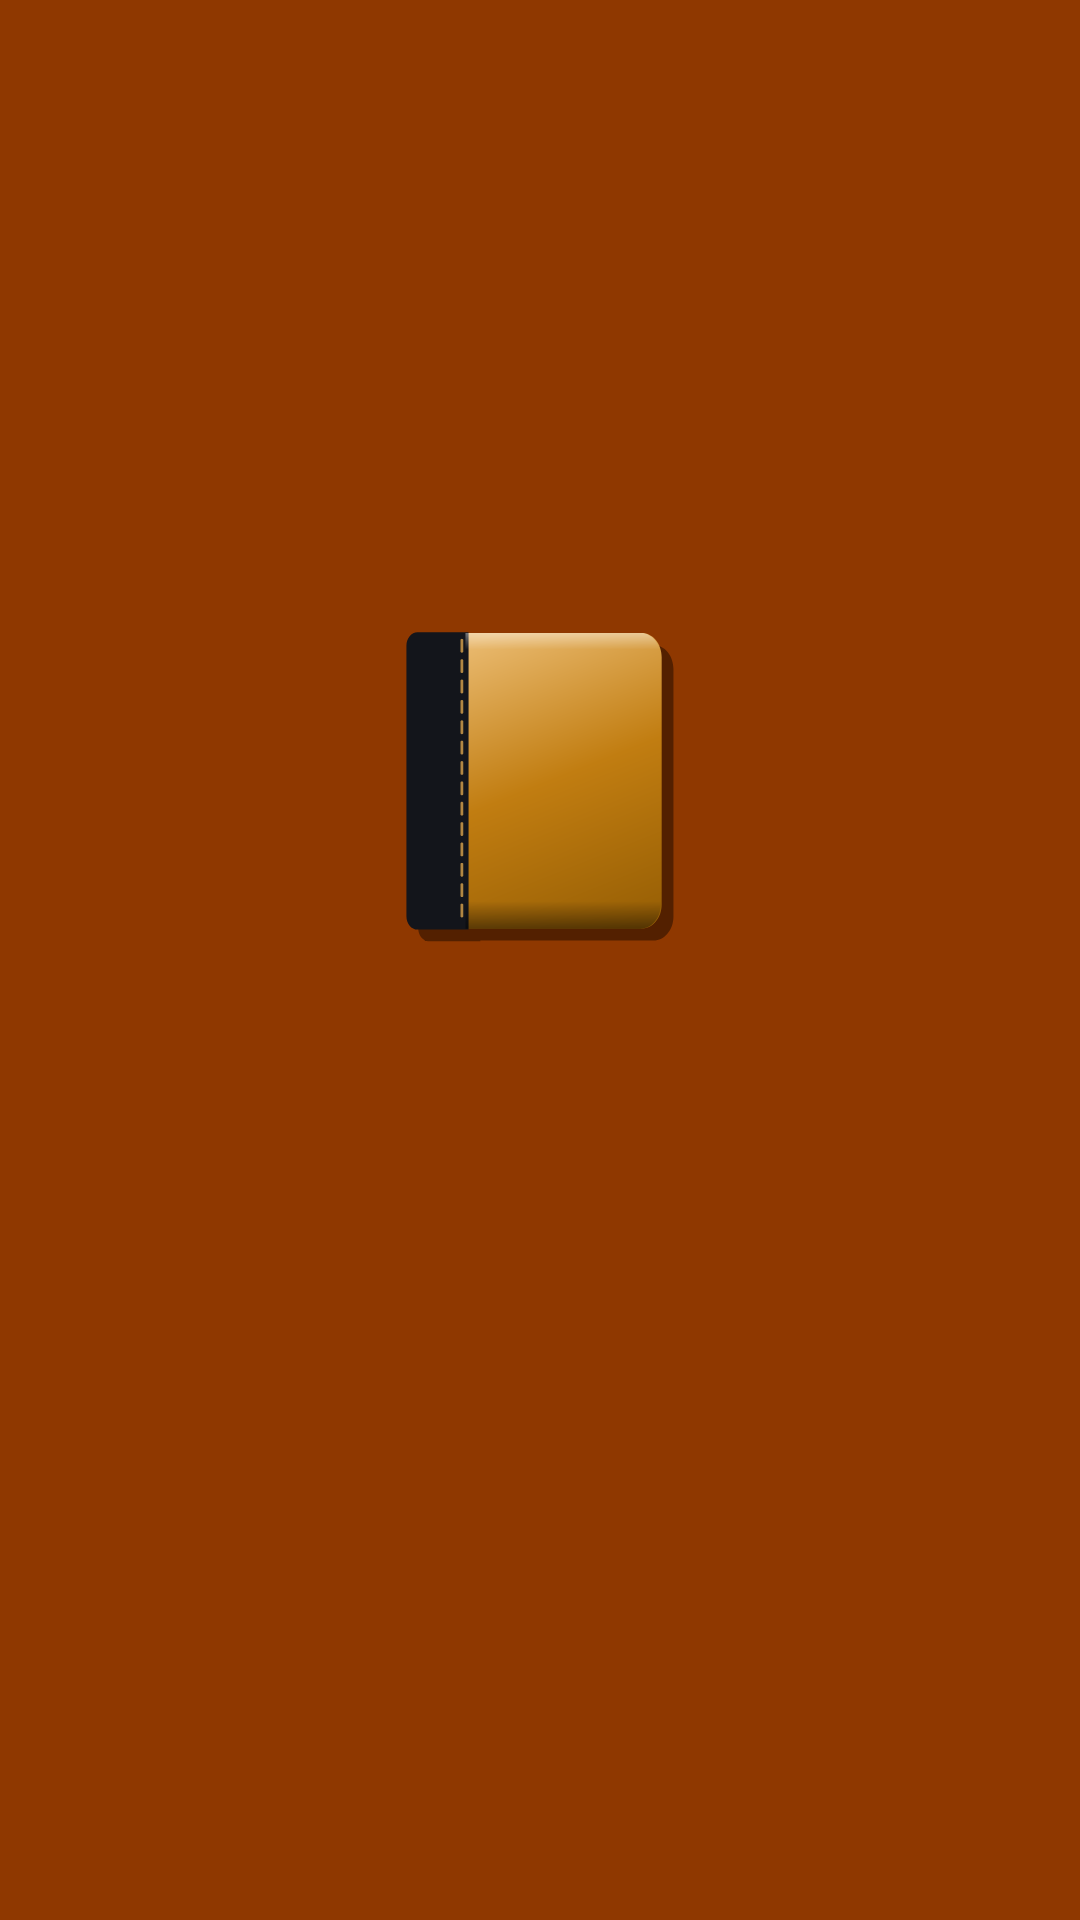

Named icons in this screenshot (1080*1920) and their bounding boxes, (x1=x1, y1=y1, x2=x2, y2=y2):
notebook leather: (x1=406, y1=632, x2=674, y2=941)
